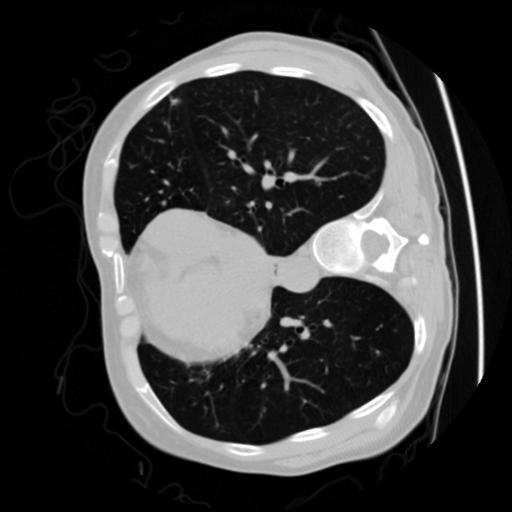nodule: (166, 91, 184, 109)
